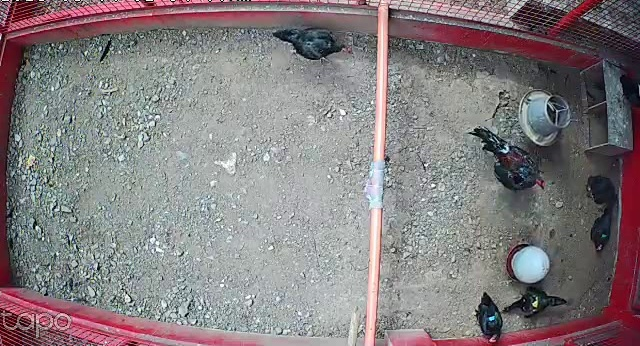Chicken: (269, 22, 356, 63), (499, 281, 573, 318), (474, 290, 507, 343), (585, 201, 616, 253), (582, 173, 625, 205)
Rooster: (465, 123, 549, 193)
Saddle_Color_Blue: (489, 314, 495, 321)
Saddle_Color_Yellow: (531, 295, 539, 309)
